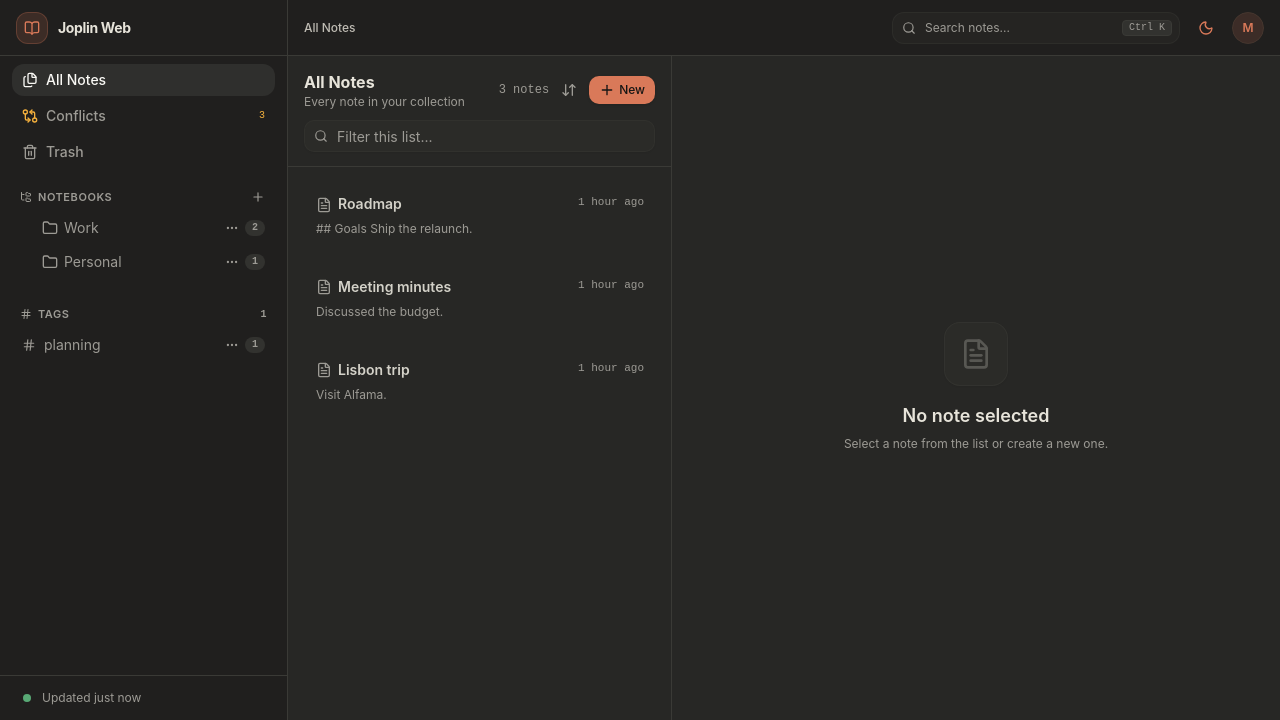
Test: NotesPage › shows search results after typing and returns to the list when cleared
// The header search field (the mobile menu's field is not rendered on desktop)
Type "alfama" into the search field labelled "Search notes" at [1036, 28], box [892, 12, 1180, 44]
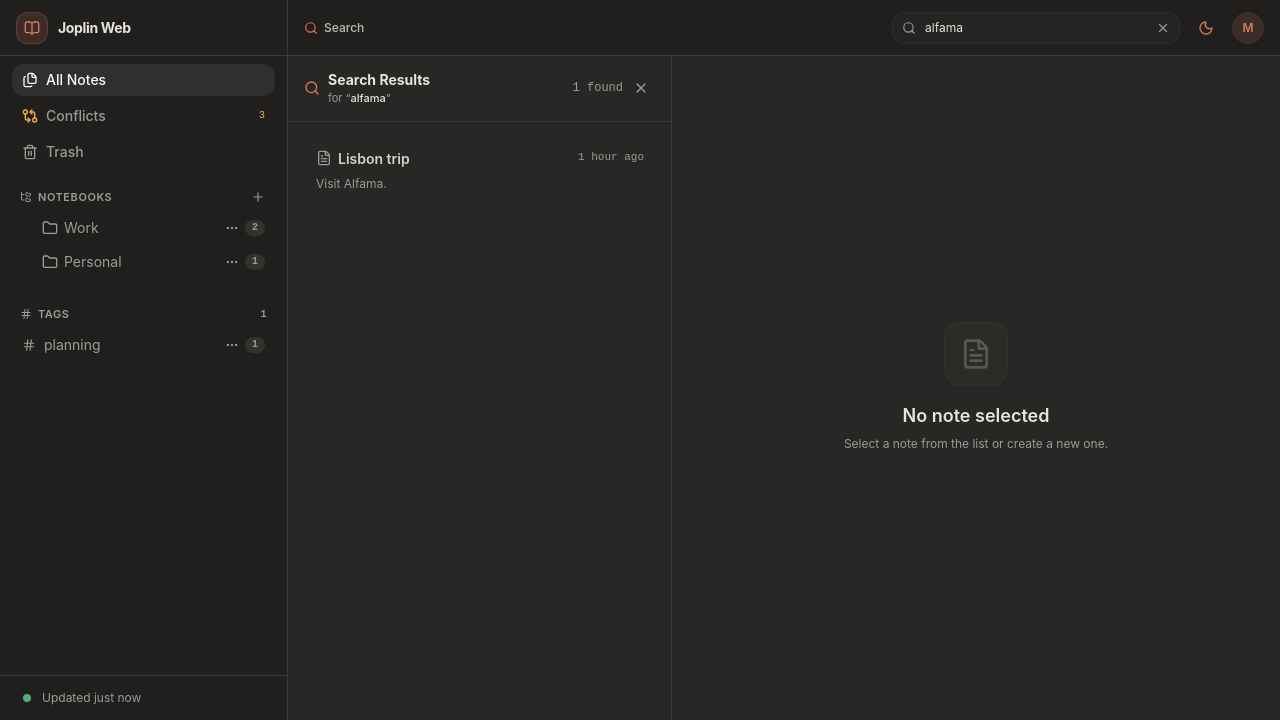
Now the heading "Search Results" is shown, box [328, 70, 430, 90]
Now the text "1 found" is shown, box [573, 80, 623, 96]
Click the button "Lisbon trip 1 hour ago Visit Alfama." at [374, 158], box [316, 150, 644, 191]
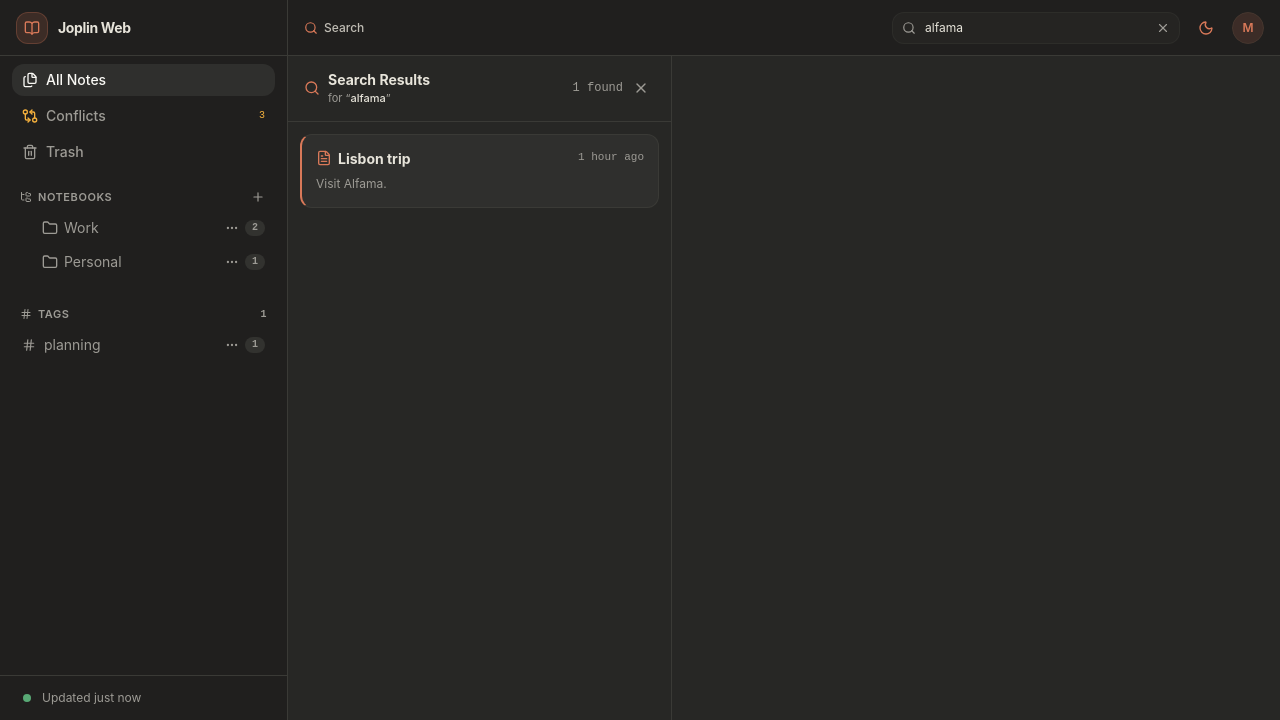
Click the 1st button named "Clear search" at [1163, 28], box [1154, 18, 1172, 36]
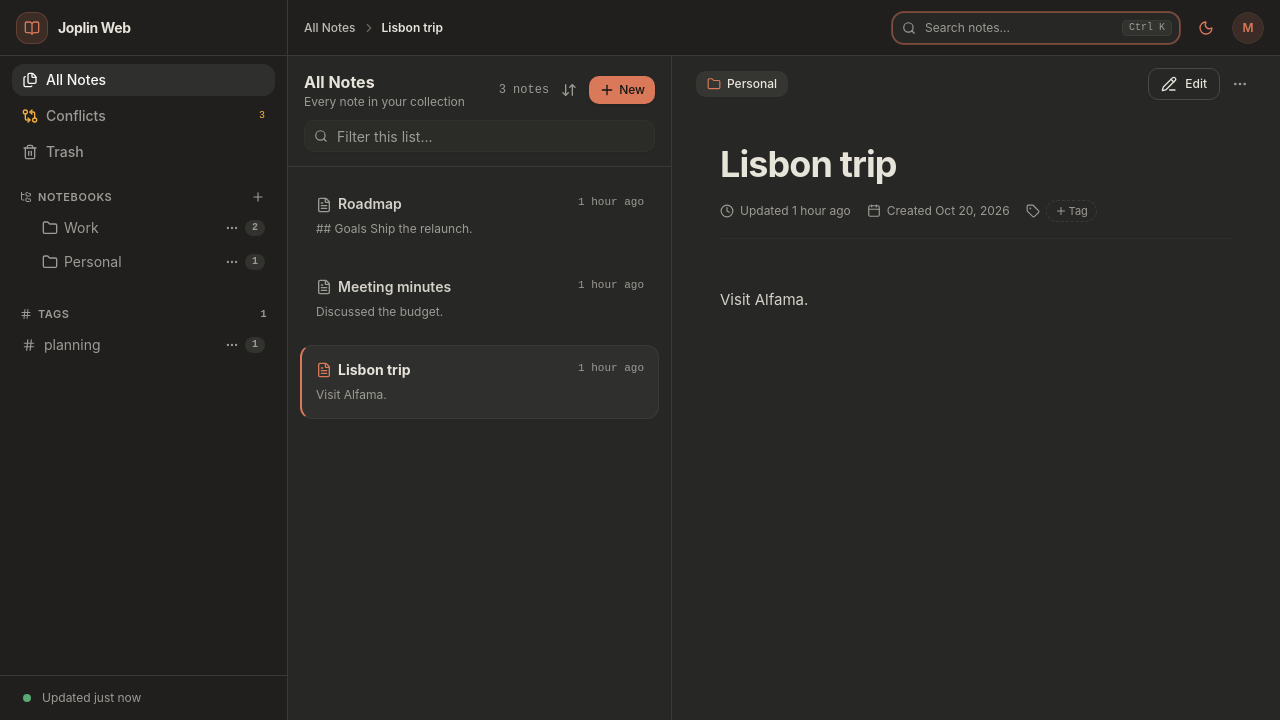
Now the heading "Search Results" is gone
